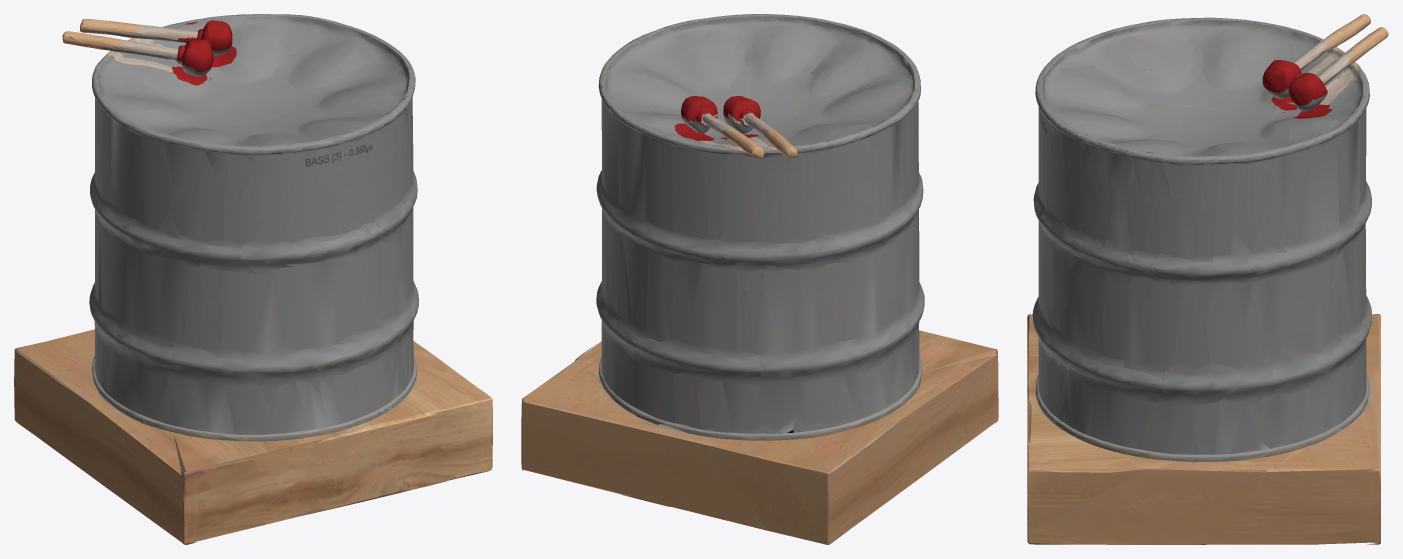
Rendered from BASS-optimized.glb.
The picture shows the model from 3 angles, left to right: view 1: azimuth 30°, elevation 25°; view 2: azimuth 150°, elevation 25°; view 3: azimuth 270°, elevation 25°; orthographic projection. The views are drawn at different scales.
Visible parts, largest first — view 1: output_unwrapped; view 2: output_unwrapped; view 3: output_unwrapped.
Part boxes in pixels (bbox=[...]): output_unwrapped: bbox=[14, 14, 492, 544]; output_unwrapped: bbox=[521, 14, 998, 544]; output_unwrapped: bbox=[1027, 14, 1388, 544].
Size of the model in its own units: 1.6 by 1.9 by 1.57.
1 material, 1 textured.
